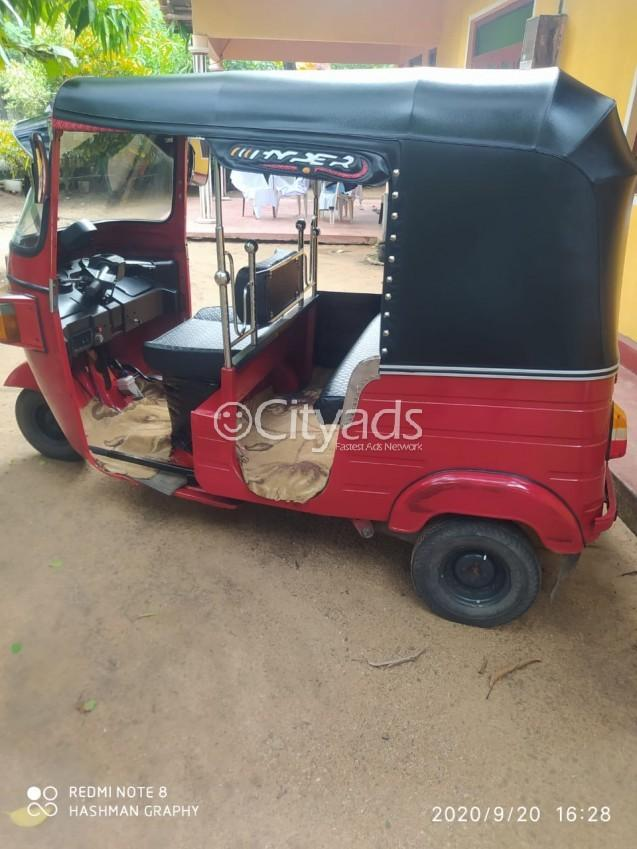threewheel: (2, 66, 637, 627)
